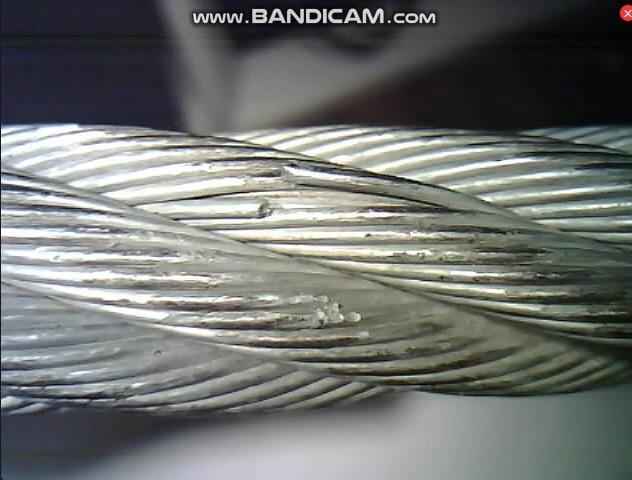break: (224, 156, 311, 225)
